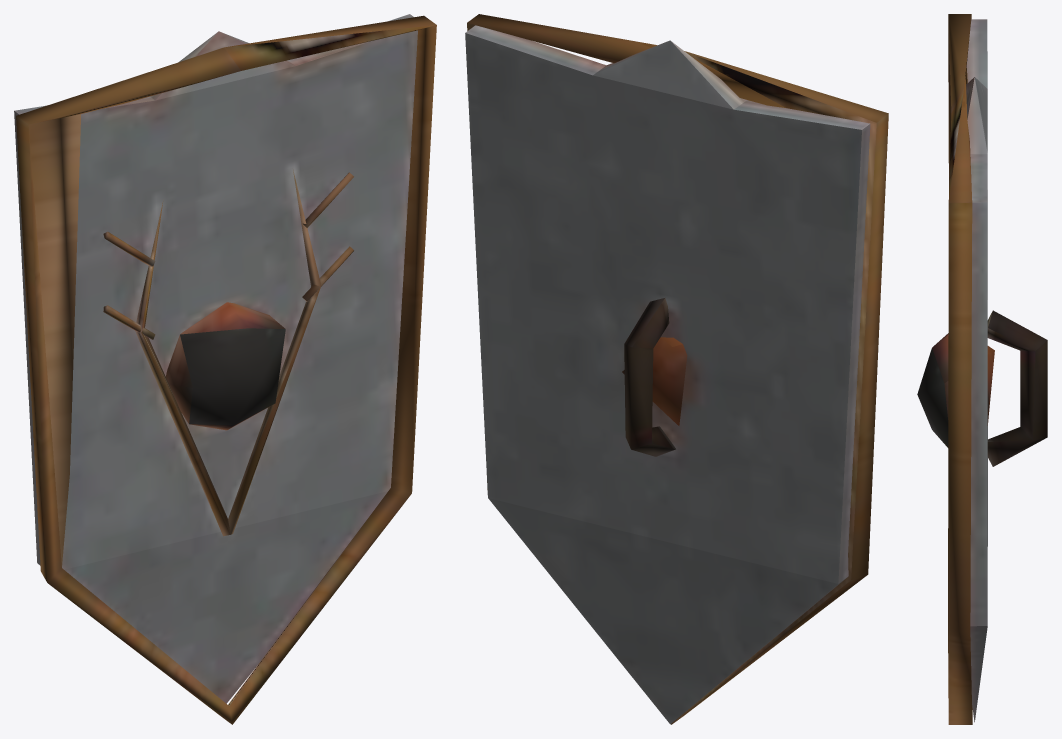
Rendered from eq_shield_3_lod2.glb.
3 renders of one model, left to right at view 1: azimuth 30°, elevation 25°; view 2: azimuth 150°, elevation 25°; view 3: azimuth 270°, elevation 25°, orthographic. The views are drawn at different scales.
Parts seen in each view (by area): view 1: eq_shield_3_lod2; view 2: eq_shield_3_lod2; view 3: eq_shield_3_lod2.
Boxes of the visible parts, <box> form: eq_shield_3_lod2: <box>14,14,436,724</box>; eq_shield_3_lod2: <box>465,14,888,724</box>; eq_shield_3_lod2: <box>917,14,1047,724</box>.
Bounding box in the file's own units: 0.6971 × 1.11 × 0.2031.
Materials: 1 (1 with a texture image).
